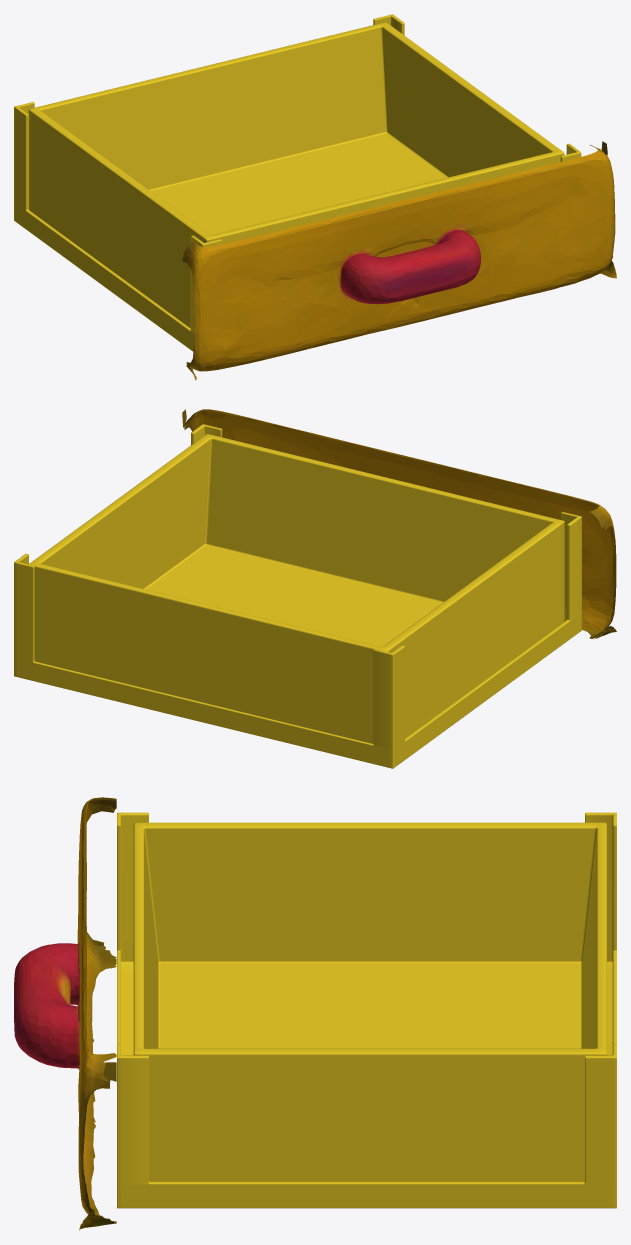
Rendered from drawer_4.glb.
3 renders of one model, top to bottom at view 1: azimuth 30°, elevation 25°; view 2: azimuth 150°, elevation 25°; view 3: azimuth 270°, elevation 25°, orthographic. The views are drawn at different scales.
Parts seen in each view (by area): view 1: prefab_drawer_body_4, source_front_cap_0; view 2: prefab_drawer_body_4, source_front_cap_0; view 3: prefab_drawer_body_4, source_front_cap_0.
Part boxes in pixels (x1,y1,x2,y2): prefab_drawer_body_4: (14,14,581,351); source_front_cap_0: (181,141,616,380); prefab_drawer_body_4: (14,424,581,768); source_front_cap_0: (182,409,616,639); prefab_drawer_body_4: (117,812,616,1208); source_front_cap_0: (14,797,116,1230).
Bounding box in the file's own units: 0.2562 × 0.0738 × 0.2399.
Materials: 2 (1 with a texture image).
